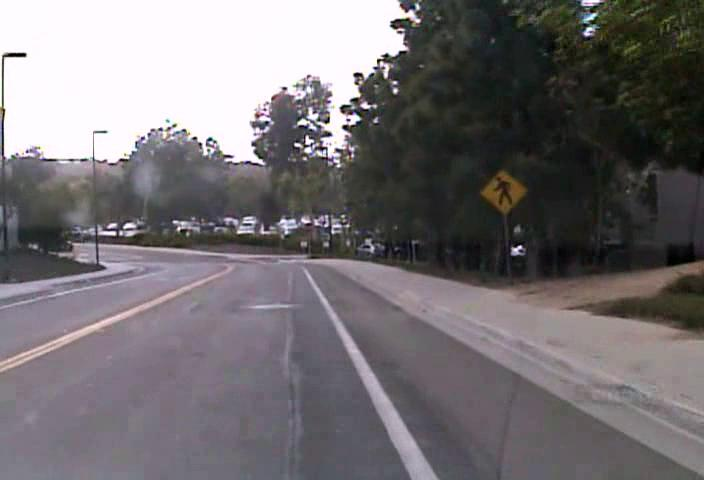pedestrianCrossing: (479, 167, 528, 214)
